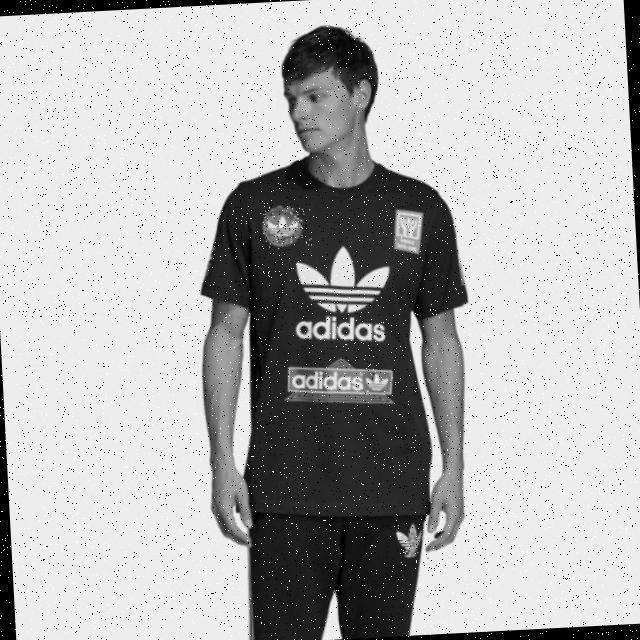Adidas: (291, 241, 395, 318), (260, 204, 312, 250), (391, 518, 431, 564), (362, 368, 398, 397)
